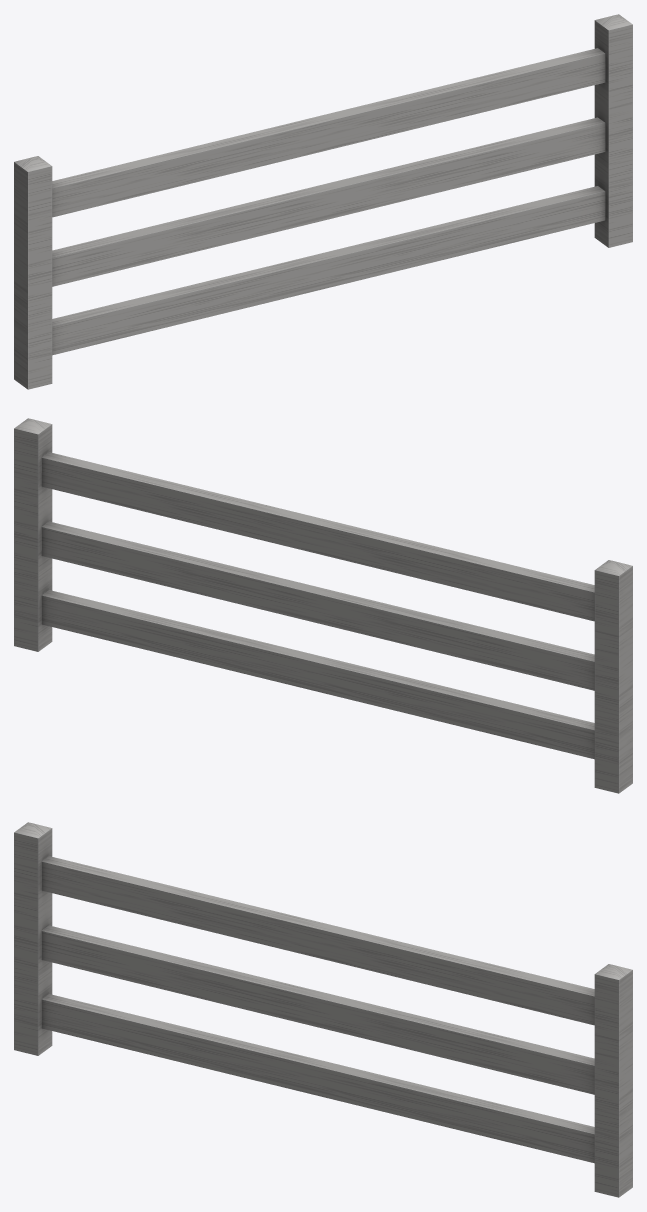
The model's file is fence.glb.
The picture shows the model from 3 angles, top to bottom: view 1: azimuth 30°, elevation 25°; view 2: azimuth 150°, elevation 25°; view 3: azimuth 330°, elevation 25°; orthographic projection.
Parts seen in each view (by area): view 1: node-0; view 2: node-0; view 3: node-0.
Boxes of the visible parts, x1,y1,x2,y2 form: node-0: (14, 14, 632, 389); node-0: (14, 418, 632, 793); node-0: (14, 822, 632, 1197).
Bounding box in the file's own units: 11.63 × 4.13 × 0.4672.
1 material, 1 textured.
